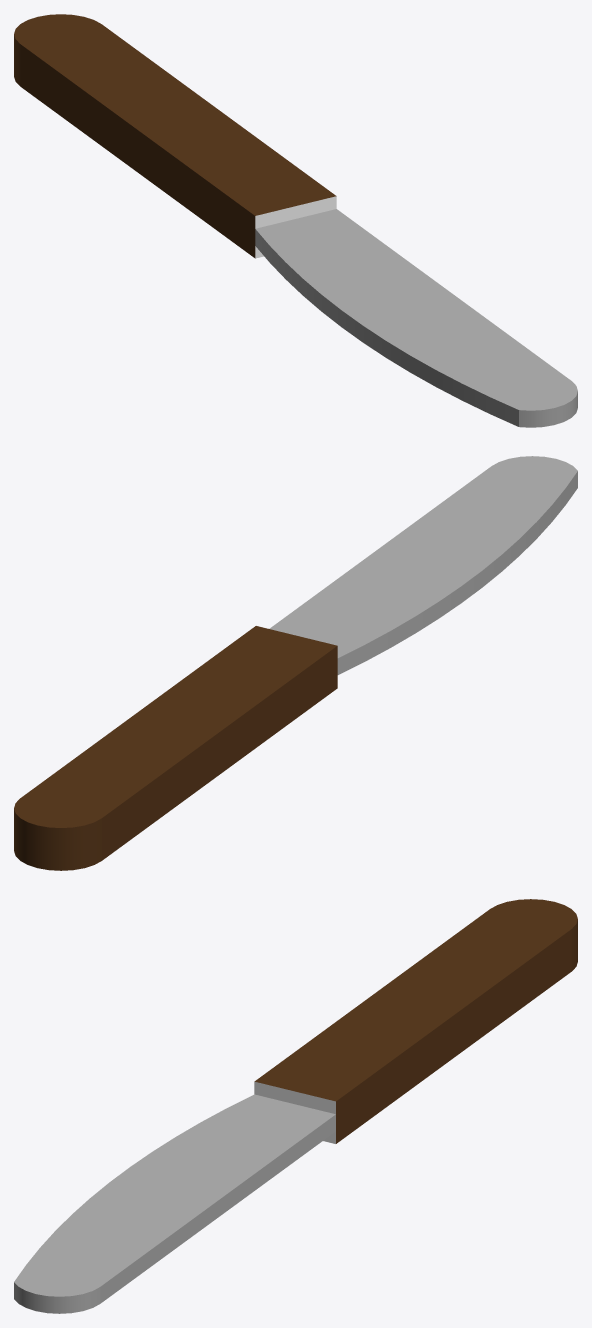
The model's file is Cuchillo.fbx.
3 views of the same model, one above another, from view 1: azimuth 30°, elevation 25°; view 2: azimuth 150°, elevation 25°; view 3: azimuth 330°, elevation 25° (orthographic).
Parts seen in each view (by area): view 1: Model; view 2: Model; view 3: Model.
Part boxes in pixels (bbox=[...]): Model: bbox=[14, 14, 577, 427]; Model: bbox=[14, 456, 577, 870]; Model: bbox=[14, 899, 577, 1313].
Bounding box in the file's own units: 0.0246 × 0.01 × 0.22.
